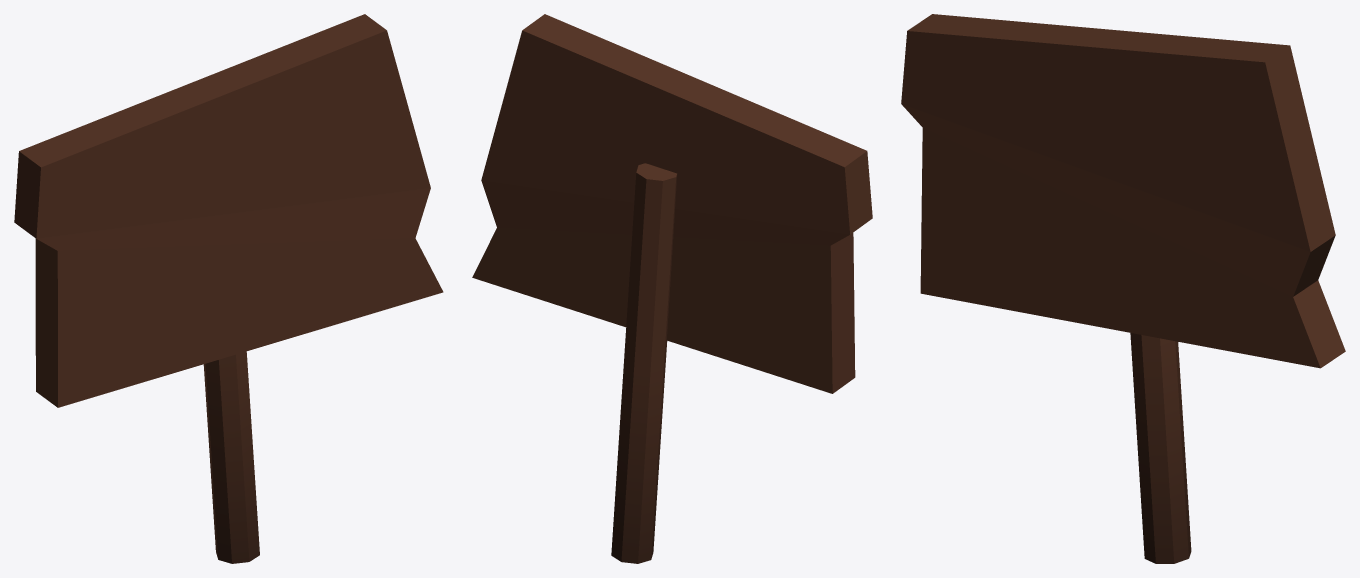
Rendered from _sign.fbx.
3 views of the same model, side by side, from view 1: azimuth 30°, elevation 25°; view 2: azimuth 150°, elevation 25°; view 3: azimuth 330°, elevation 25° (orthographic). The views are drawn at different scales.
Parts seen in each view (by area): view 1: polySurface2; view 2: polySurface2; view 3: polySurface2.
Part boxes in pixels (x1,y1,x2,y2): polySurface2: (14,14,443,563); polySurface2: (472,14,872,563); polySurface2: (901,14,1345,563).
Size of the model in its own units: 233 by 286 by 42.48.
